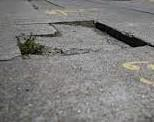pothole: (0, 19, 154, 61)
